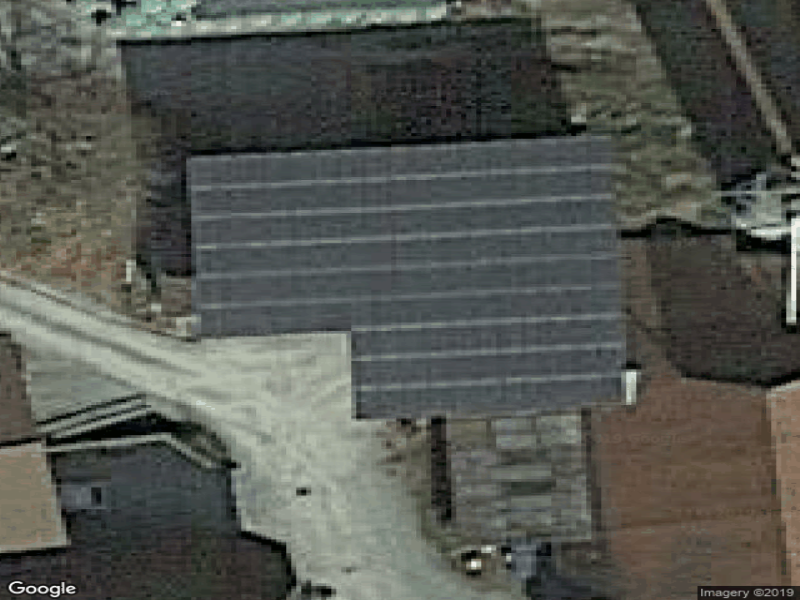pv: (188, 137, 629, 414)
